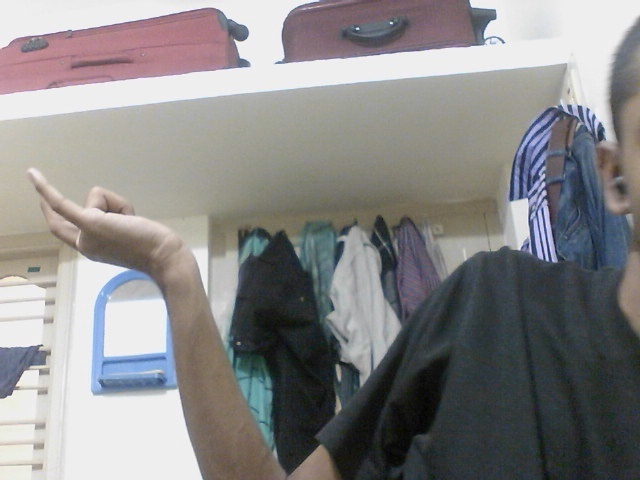hand: (20, 162, 196, 272)
